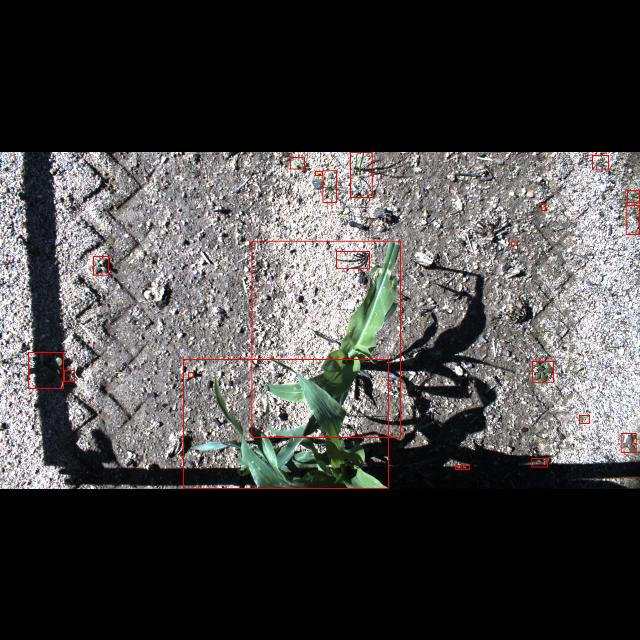crop: (252, 240, 401, 438), (184, 358, 388, 488)
weed: (28, 352, 64, 388), (350, 152, 372, 196), (336, 250, 369, 268), (532, 361, 554, 382), (323, 170, 337, 202), (626, 204, 638, 233), (620, 432, 636, 452), (94, 256, 108, 274), (592, 154, 608, 168), (290, 156, 304, 168), (627, 190, 639, 202), (532, 458, 548, 467), (64, 370, 74, 380), (579, 415, 589, 423), (454, 465, 470, 469), (541, 202, 545, 210), (188, 372, 194, 376), (316, 170, 322, 174), (512, 242, 516, 244)
